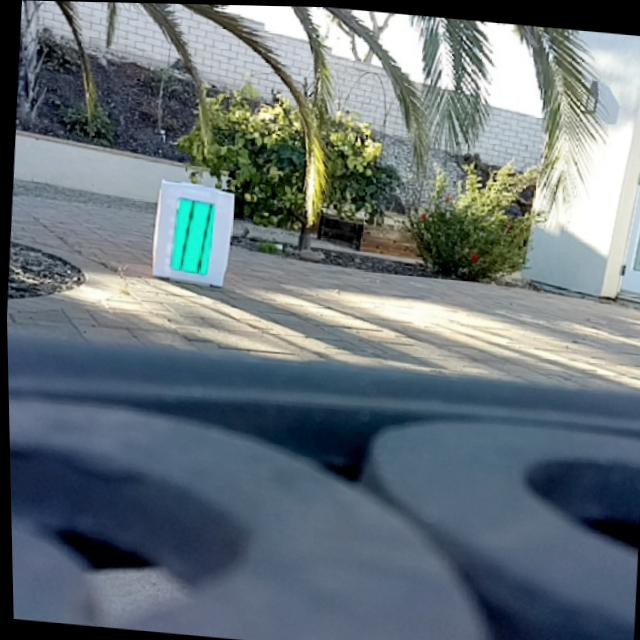led: (169, 195, 215, 275)
